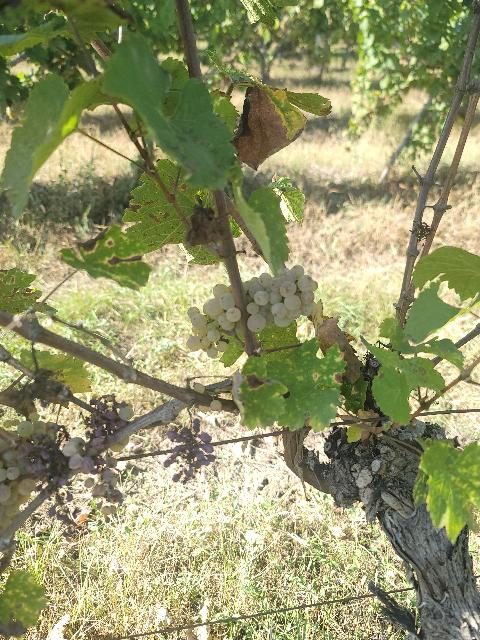grapes: (186, 265, 318, 358)
